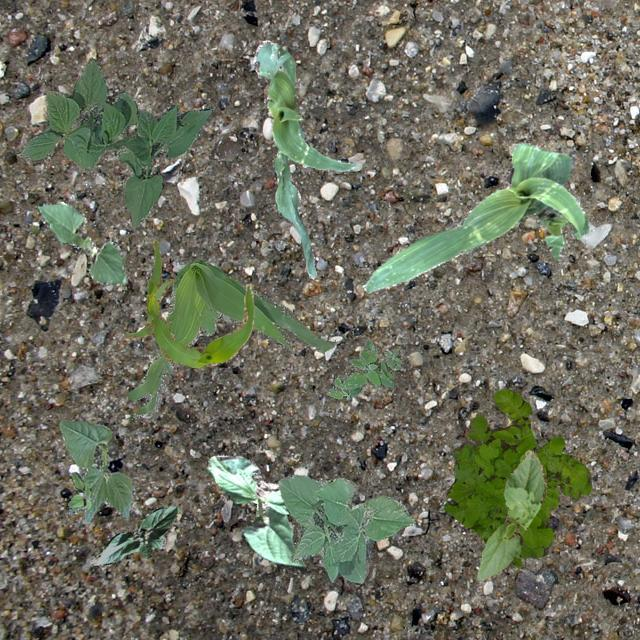crop: (14, 56, 212, 228), (362, 142, 588, 292), (252, 39, 360, 278), (124, 238, 252, 366), (278, 474, 414, 584), (206, 454, 306, 572), (476, 448, 546, 580), (58, 418, 134, 522), (36, 200, 126, 284), (90, 504, 178, 564)
weed: (126, 258, 334, 418), (442, 388, 590, 566), (326, 338, 402, 398), (66, 472, 90, 508)
